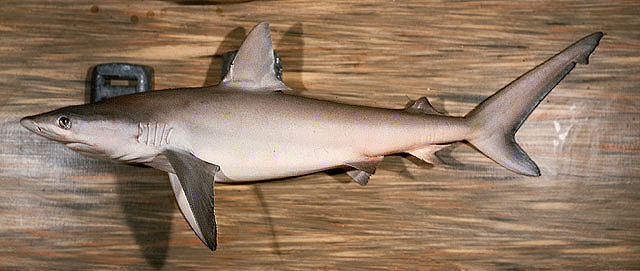fish: (21, 21, 606, 252)
